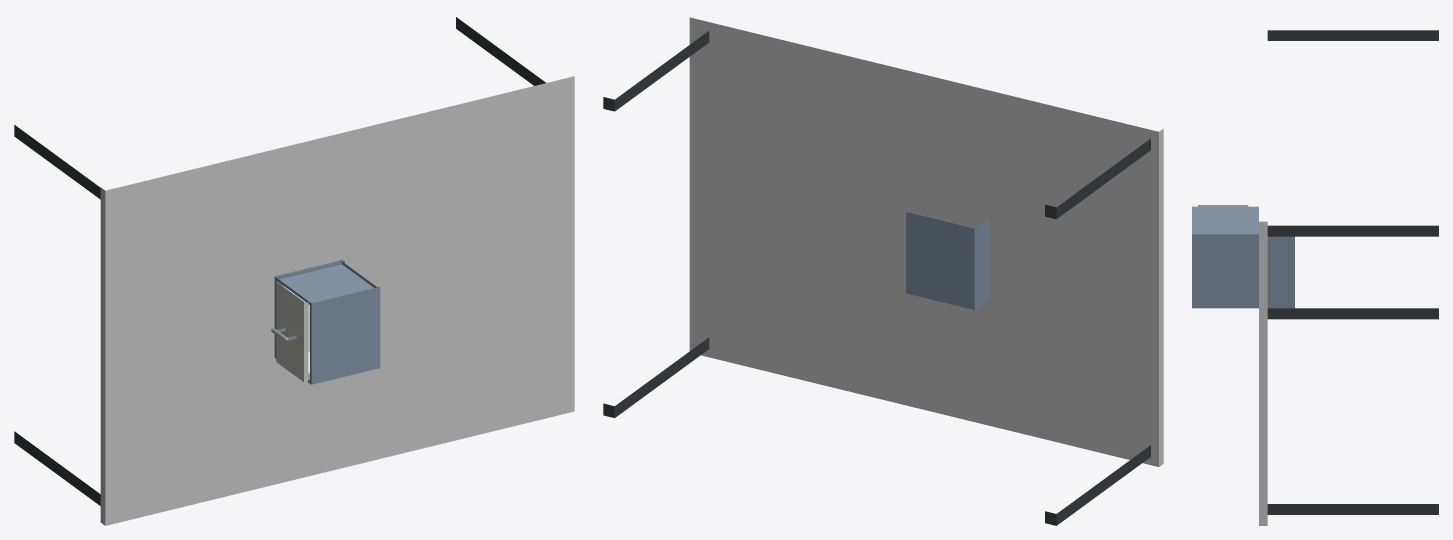
The model's file is t2_c59023bffe.glb.
3 renders of one model, left to right at view 1: azimuth 30°, elevation 25°; view 2: azimuth 150°, elevation 25°; view 3: azimuth 270°, elevation 25°, orthographic. The views are drawn at different scales.
Visible parts, largest first — view 1: s0, s1, s2; view 2: s0, s1; view 3: s0, s1.
Boxes of the visible parts, left/top/right/bottom form: s0: left=14, top=17, right=574, bottom=525; s1: left=274, top=259, right=380, bottom=384; s2: left=271, top=283, right=309, bottom=382; s0: left=603, top=17, right=1163, bottom=525; s1: left=906, top=212, right=989, bottom=309; s0: left=1259, top=30, right=1438, bottom=525; s1: left=1192, top=206, right=1294, bottom=308.
Bounding box in the file's own units: 2.05 × 1.4 × 1.03.
